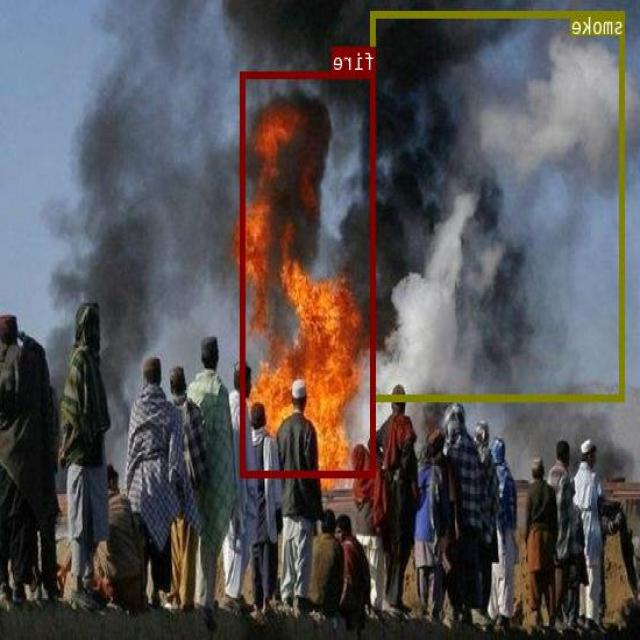fire: (242, 70, 376, 477)
smoke: (372, 11, 625, 400)
